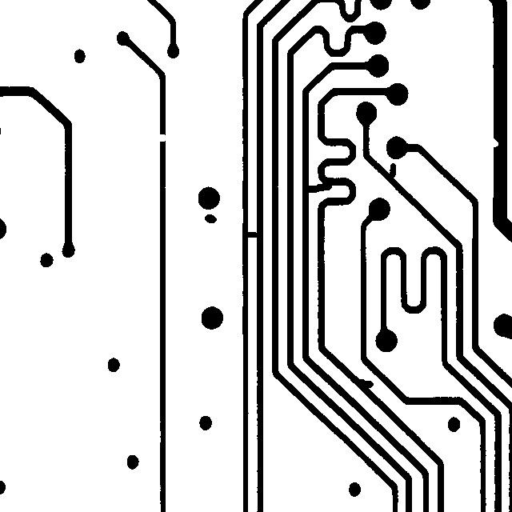copper: (197, 206, 224, 230)
mousebite: (483, 130, 506, 154)
open: (150, 126, 174, 149)
short: (298, 175, 339, 200), (234, 224, 267, 245)
spur: (348, 371, 381, 396), (380, 155, 403, 187)
